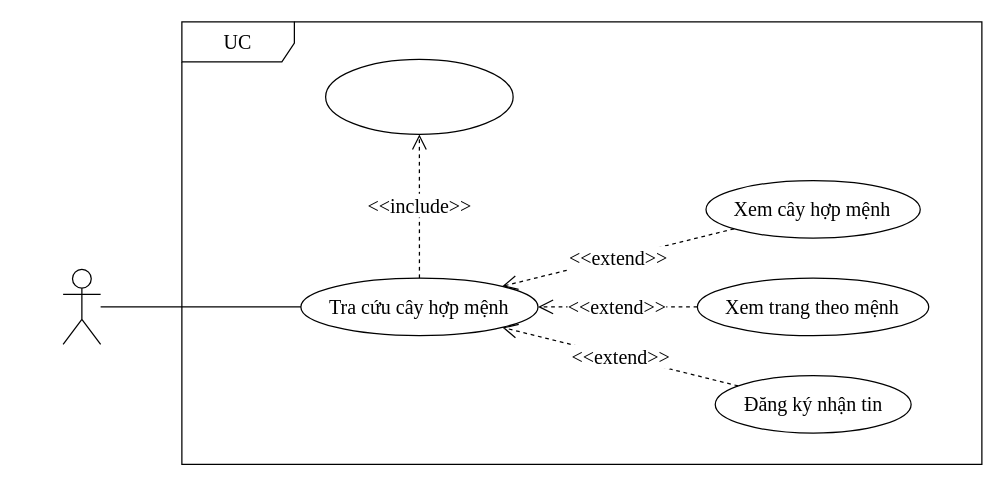
Some shapes in this 1004 by 486 pixel diagram are drawn without their labels. The centre of each missing label's shape, as x and y in pixels:
Khách vãng lai: (81,306)
Xác định mệnh theo ngày sinh: (418,96)
